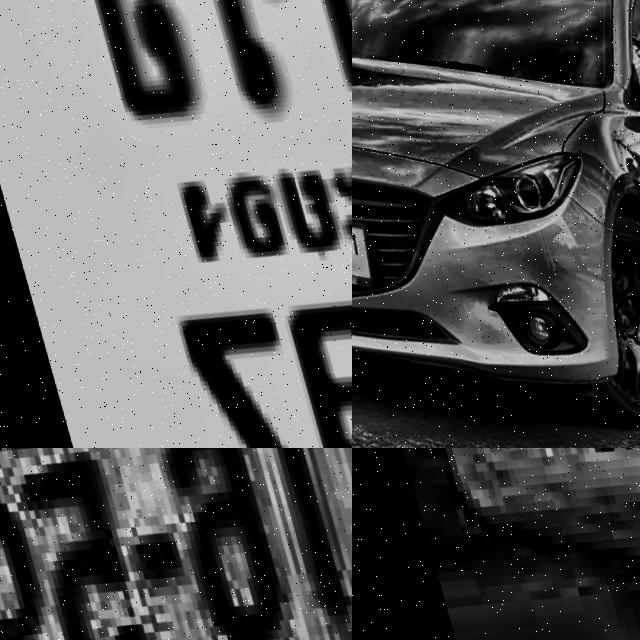license-plate: (0, 0, 352, 448), (0, 448, 352, 640), (352, 448, 640, 640), (352, 194, 377, 300)
